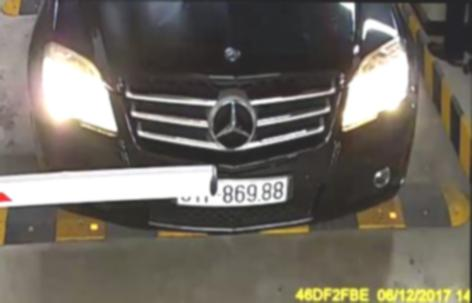License_Plate: (178, 171, 290, 208)
